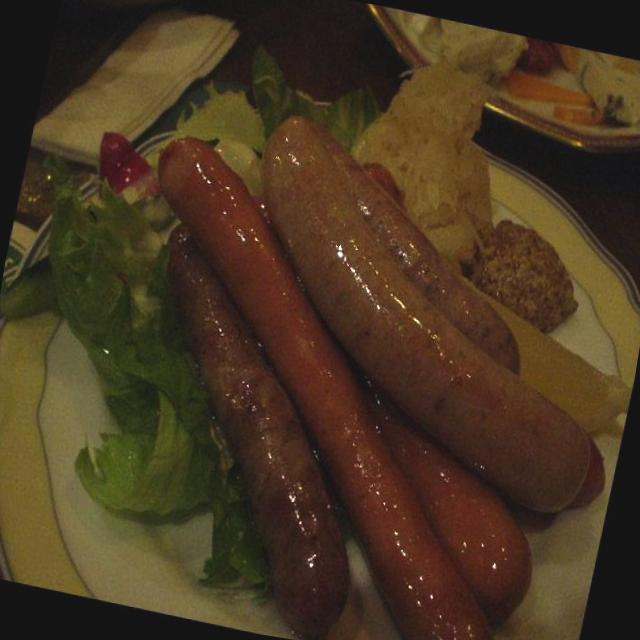Sausage: (62, 79, 640, 640)
